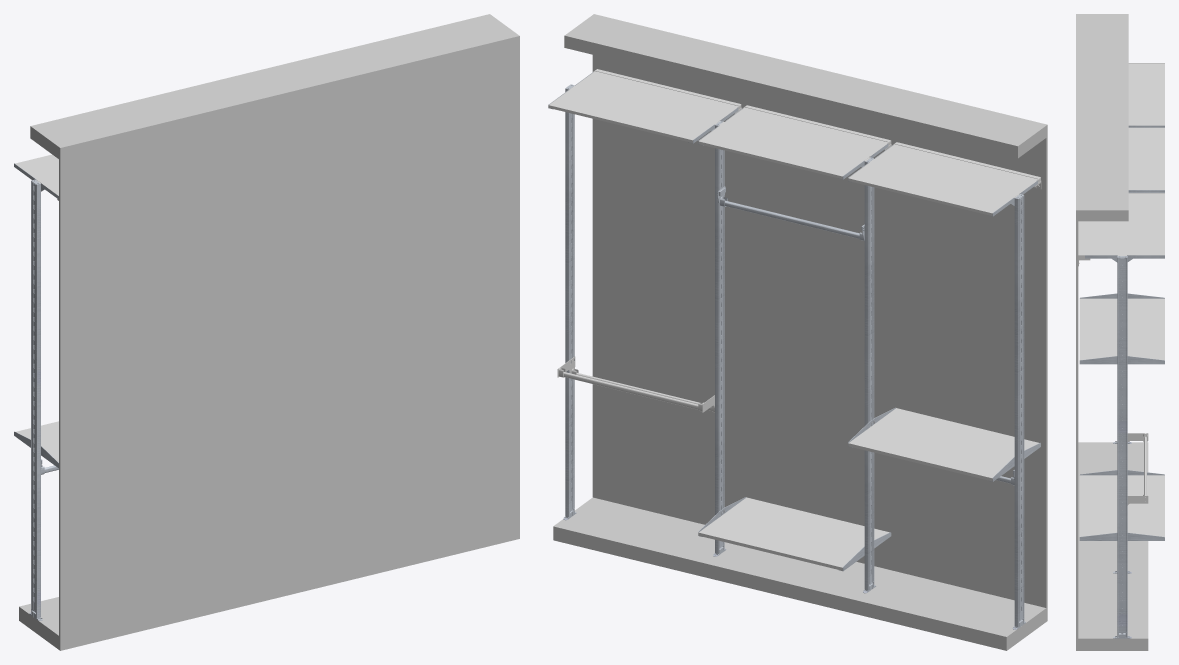
3 renders of one model, left to right at view 1: azimuth 30°, elevation 25°; view 2: azimuth 150°, elevation 25°; view 3: azimuth 270°, elevation 25°, orthographic. The views are drawn at different scales.
Parts seen in each view (by area): view 1: Geom3D_, Geom3D_组件#2, Geom3D_组件#16; view 2: Geom3D_, Geom3D_组件#16 (×3), Geom3D_组件#2 (×4), Geom3D_组件#15_木层板（中间） copy 001 (×2), Geom3D_组件#11_双衣杆 copy 002, Geom3D_组件#10_单挂衣杆 copy 001; view 3: Geom3D_, Geom3D_组件#15_木层板（中间） copy 001 (×2), Geom3D_组件#16 (×3), Geom3D_组件#2, Geom3D (×3), Geom3D_组件#11_双衣杆 copy 002.
Part boxes in pixels (x1,y1,x2,y2): Geom3D_: (19, 14, 519, 650); Geom3D_组件#2: (29, 179, 42, 620); Geom3D_组件#16: (15, 154, 58, 200); Geom3D_: (553, 14, 1047, 650); Geom3D_组件#16 (×3): (548, 69, 1041, 215); Geom3D_组件#2 (×4): (563, 84, 1025, 629); Geom3D_组件#15_木层板（中间） copy 001 (×2): (698, 408, 1038, 570); Geom3D_组件#11_双衣杆 copy 002: (557, 356, 714, 412); Geom3D_组件#10_单挂衣杆 copy 001: (717, 186, 864, 240); Geom3D_: (1076, 14, 1148, 650); Geom3D_组件#15_木层板（中间） copy 001 (×2): (1079, 298, 1164, 536); Geom3D_组件#16 (×3): (1078, 63, 1164, 266); Geom3D_组件#2: (1113, 256, 1131, 638); Geom3D (×3): (1079, 192, 1164, 540); Geom3D_组件#11_双衣杆 copy 002: (1127, 433, 1148, 505).
Size of the model in its own units: 2.73 by 2.85 by 0.5216.
2 materials, 1 textured.
